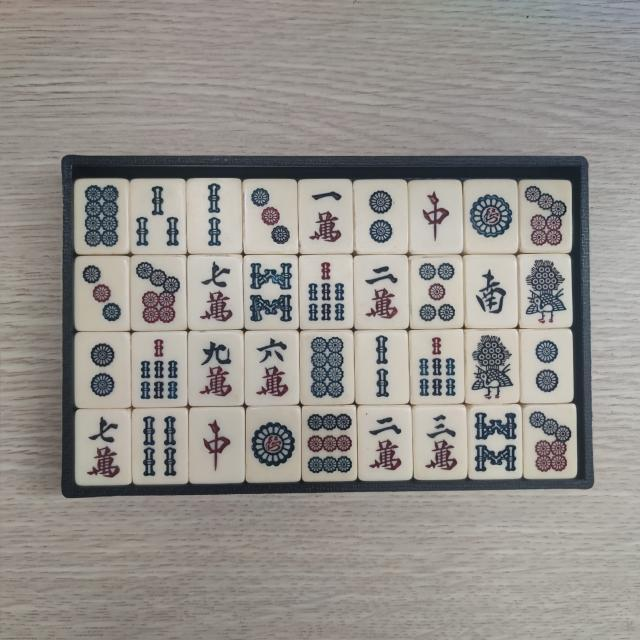hdr: (194, 412, 238, 480), (413, 185, 457, 250)
hws: (471, 260, 513, 324)
sb1: (522, 258, 568, 326), (471, 332, 516, 400)
sb2: (360, 332, 406, 400), (192, 182, 238, 250)
sb3: (132, 182, 180, 248)
sb4: (139, 414, 184, 482)
sb7: (416, 333, 462, 401), (138, 335, 184, 403), (303, 260, 349, 325)
sb8: (249, 258, 296, 325), (473, 410, 519, 478)
sc1: (303, 184, 348, 250)
sc2: (356, 260, 402, 326), (364, 412, 408, 477)
sc3: (420, 409, 464, 474)
sc6: (251, 335, 295, 401)
sc7: (192, 259, 238, 326), (81, 413, 125, 481)
sc9: (193, 334, 238, 400)
sd1: (250, 414, 298, 481), (468, 184, 516, 249)
sd2: (80, 337, 126, 404), (524, 334, 568, 400), (359, 184, 401, 250)
sd3: (80, 260, 126, 328), (249, 183, 295, 250)
sd5: (414, 260, 458, 325)
sd7: (134, 259, 182, 328), (526, 408, 573, 475), (523, 184, 568, 248)
sd8: (304, 334, 349, 401), (80, 184, 124, 250)
sd9: (307, 410, 354, 477)
